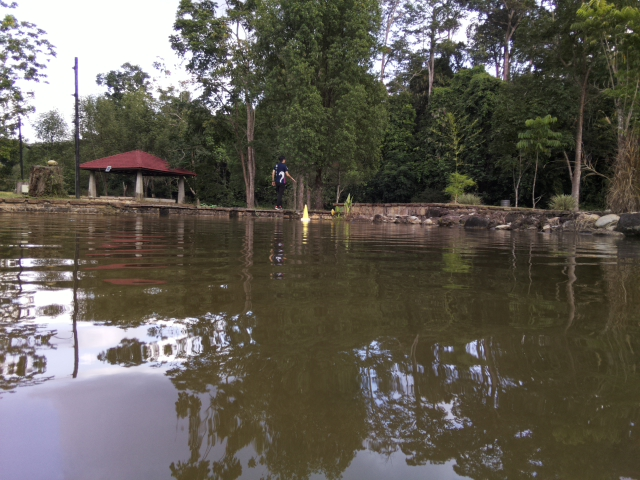checkpoint: (299, 203, 312, 222)
